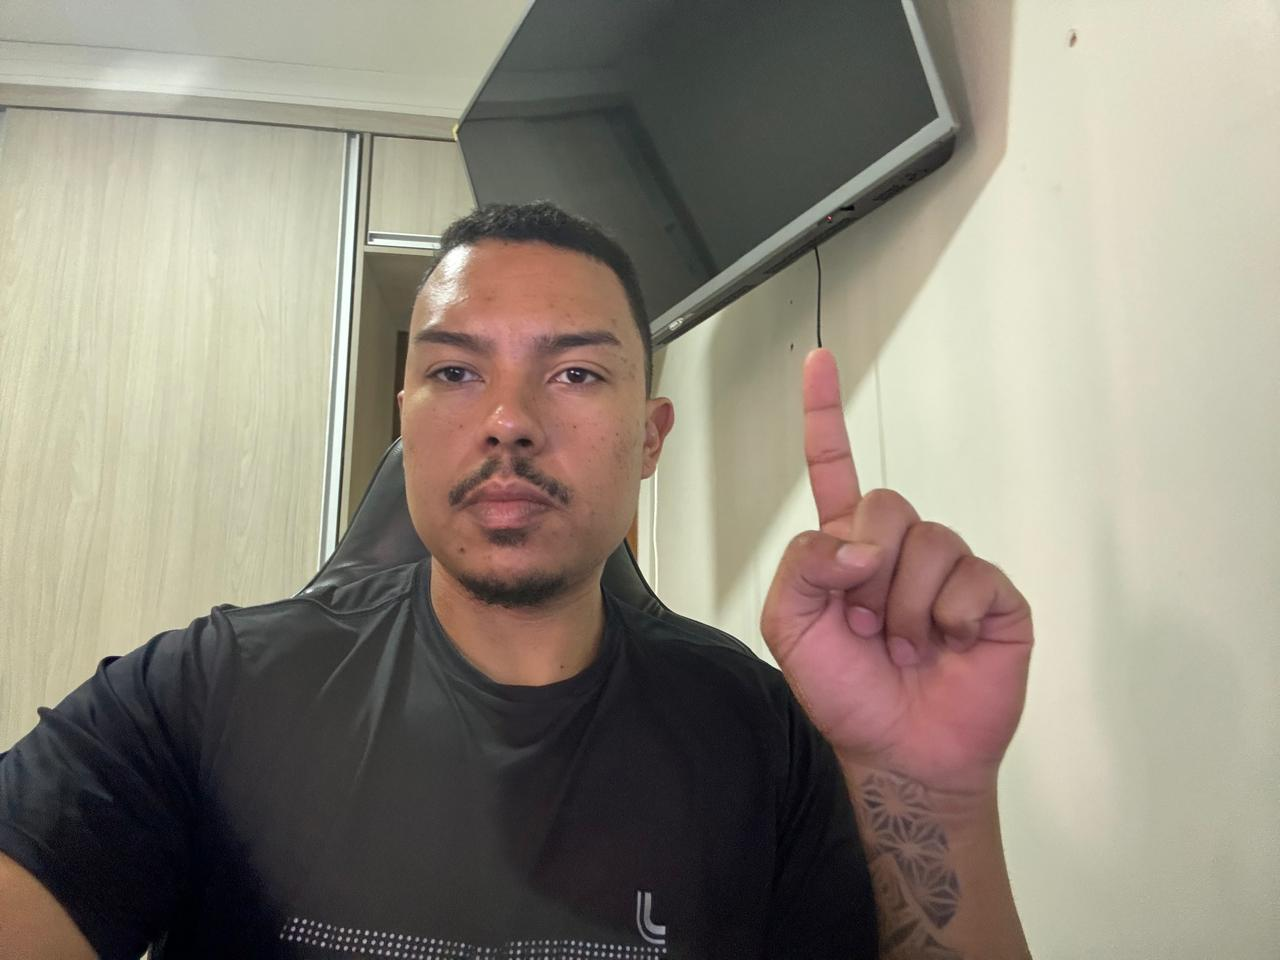z: (745, 345, 1049, 790)
